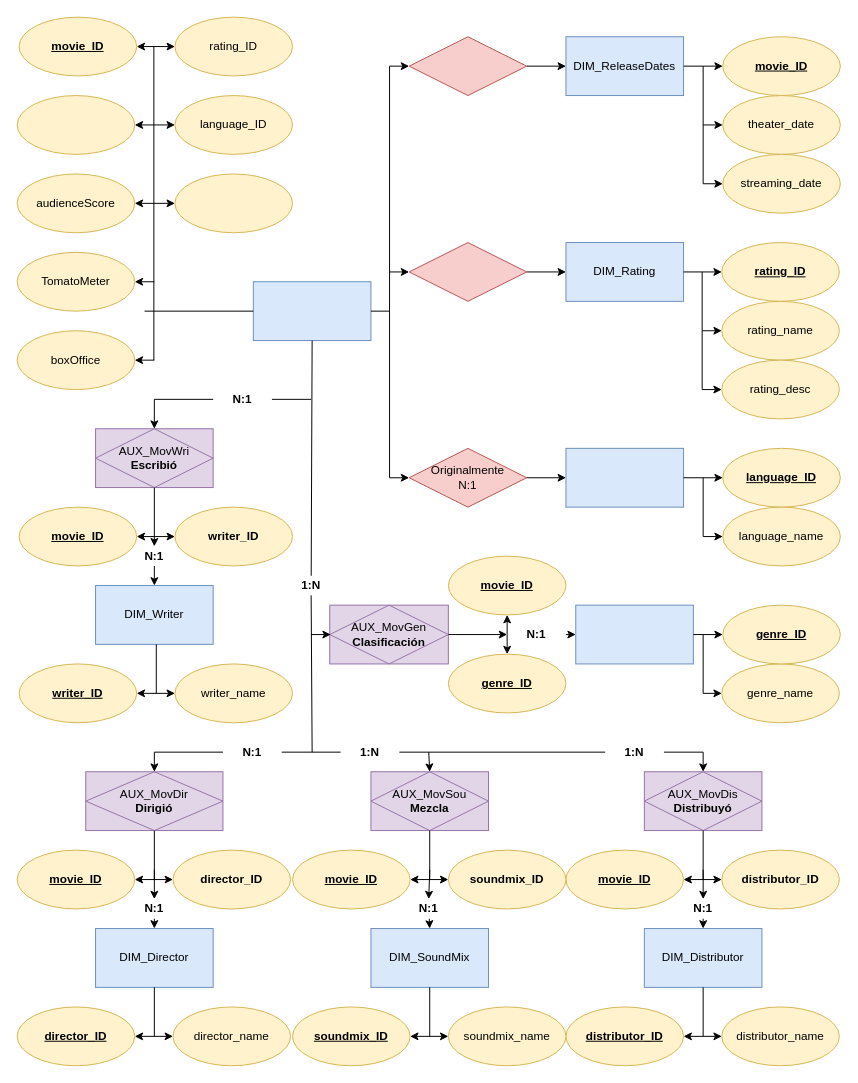
The diagram is 858 pixels wide and 1083 high, and some of its shapes have lost their labels. The shapes that lost their labels are listed below. From the top down, each one's centre as x and y in pixels, then its label:
At point 467,66: "Se lanzó 1:1".
At point 75,124: "title".
At point 233,203: "runtime".
At point 467,271: "Pertenece N:1".
At point 311,311: "Movies".
At point 624,477: "DIM_Language".
At point 634,634: "DIM_Genre".
